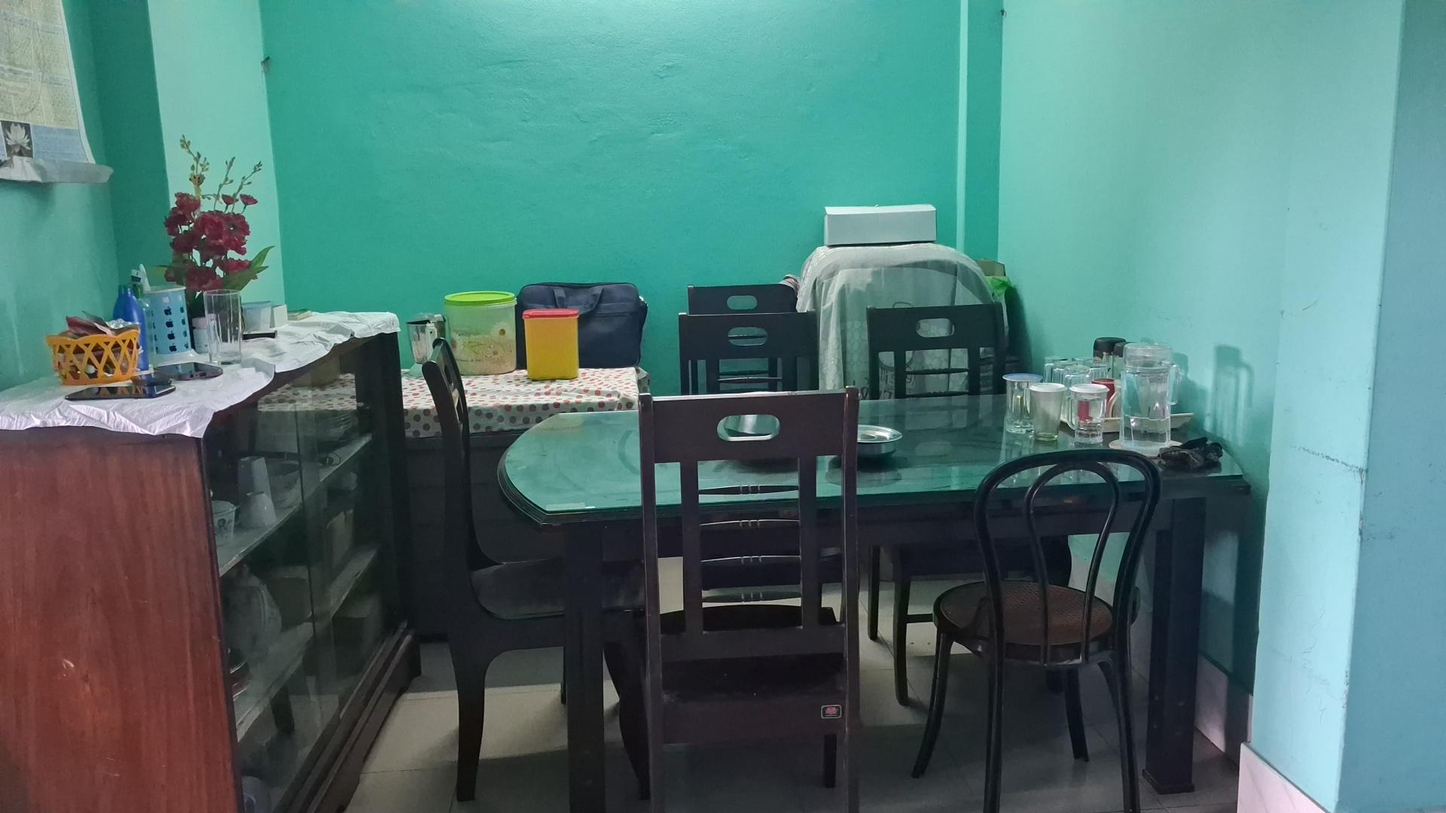Bag: (516, 278, 647, 366)
Basket: (46, 327, 134, 382)
Bowl: (832, 423, 898, 464)
Box: (824, 208, 935, 239)
Chair: (418, 344, 643, 794), (636, 392, 862, 808), (935, 454, 1144, 804)
Glass: (210, 292, 246, 368), (1071, 387, 1104, 442), (1004, 376, 1030, 437), (1033, 387, 1059, 440)
Jar: (442, 292, 514, 378), (528, 311, 580, 378)
Jug: (1123, 345, 1180, 438)
Pen Stand: (131, 261, 194, 364)
Phone: (74, 383, 172, 402), (146, 361, 220, 383)
Table: (500, 397, 1245, 780)
